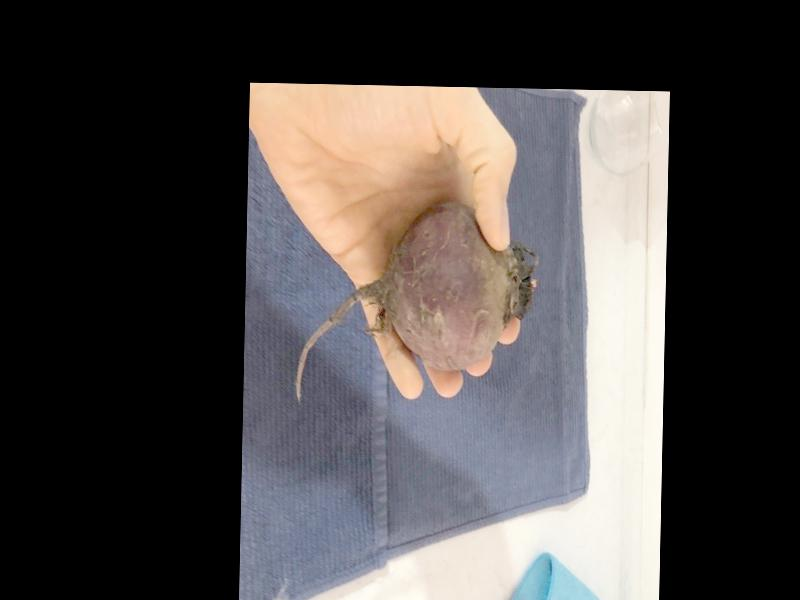Beet: (295, 196, 538, 409)
